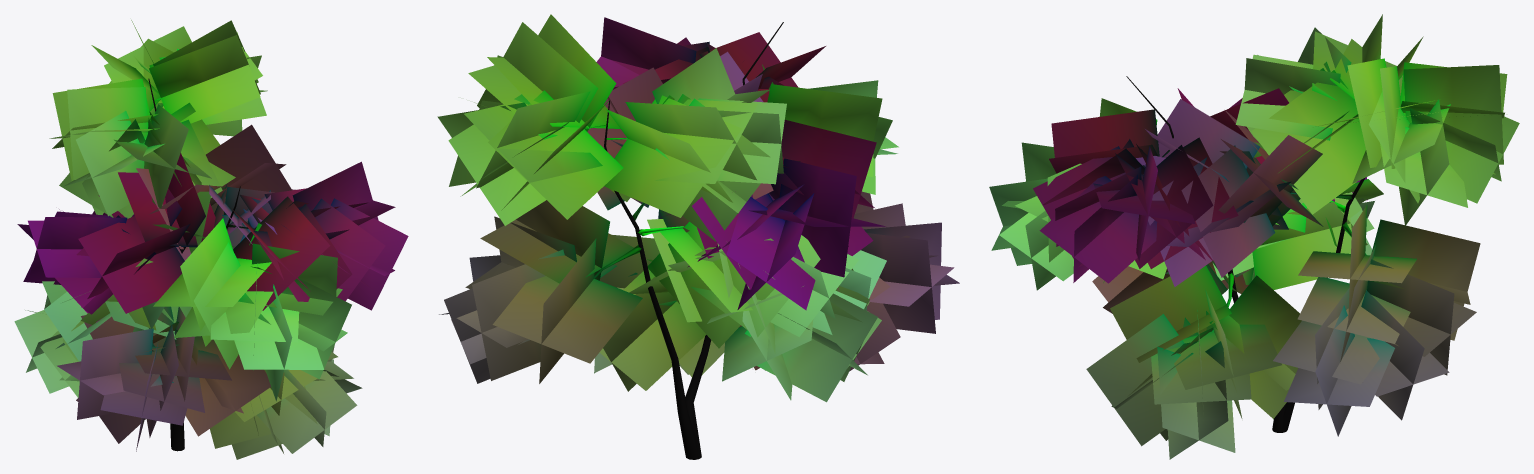
Rendered from URP_P14_Tree_6_LOD_2.fbx.
The picture shows the model from 3 angles, left to right: view 1: azimuth 30°, elevation 25°; view 2: azimuth 150°, elevation 25°; view 3: azimuth 270°, elevation 25°; orthographic projection. The views are drawn at different scales.
Parts seen in each view (by area): view 1: Tree_6_LOD_2; view 2: Tree_6_LOD_2; view 3: Tree_6_LOD_2.
Part boxes in pixels (bbox=[...]): Tree_6_LOD_2: bbox=[14, 20, 408, 459]; Tree_6_LOD_2: bbox=[437, 14, 959, 459]; Tree_6_LOD_2: bbox=[989, 14, 1519, 459].
Bounding box in the file's own units: 389 × 424 × 492.
